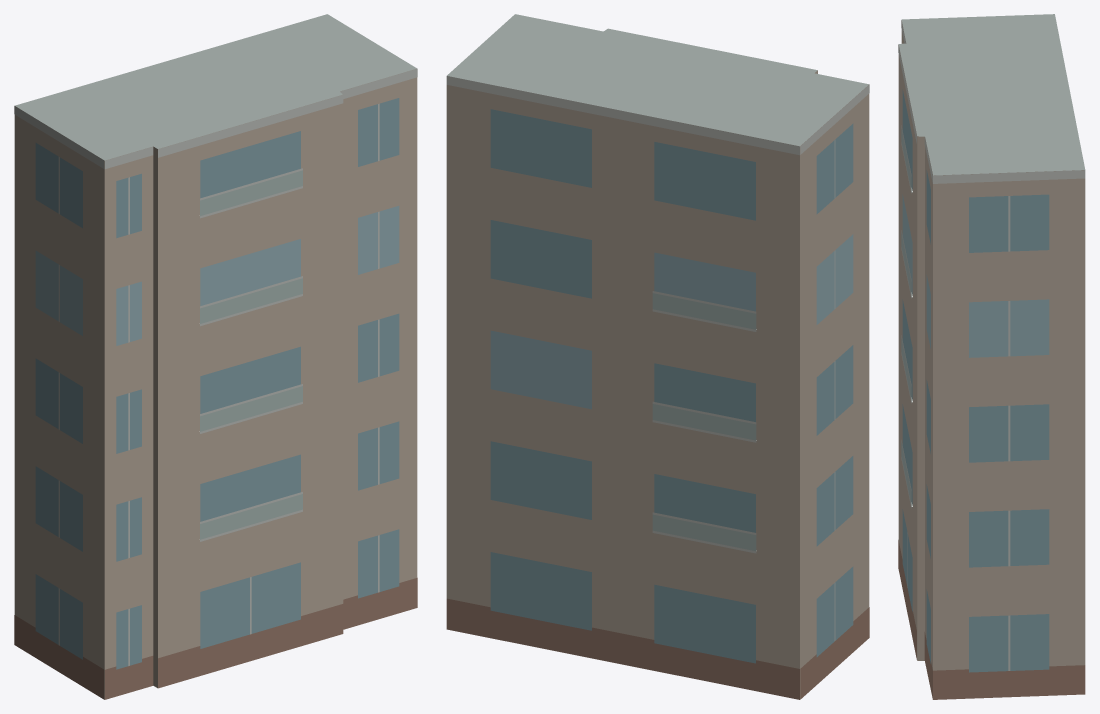
The model's file is survey-upis-32492772.glb.
3 renders of one model, left to right at view 1: azimuth 30°, elevation 25°; view 2: azimuth 150°, elevation 25°; view 3: azimuth 270°, elevation 25°, orthographic. The views are drawn at different scales.
Visible parts, largest first — view 1: survey-upis-32492772.tmp; view 2: survey-upis-32492772.tmp; view 3: survey-upis-32492772.tmp.
Boxes of the visible parts, x1=… form: survey-upis-32492772.tmp: x1=14, y1=14, x2=417, y2=699; survey-upis-32492772.tmp: x1=446, y1=14, x2=869, y2=699; survey-upis-32492772.tmp: x1=898, y1=14, x2=1085, y2=699.
Bounding box in the file's own units: 9.91 × 15 × 4.85.
